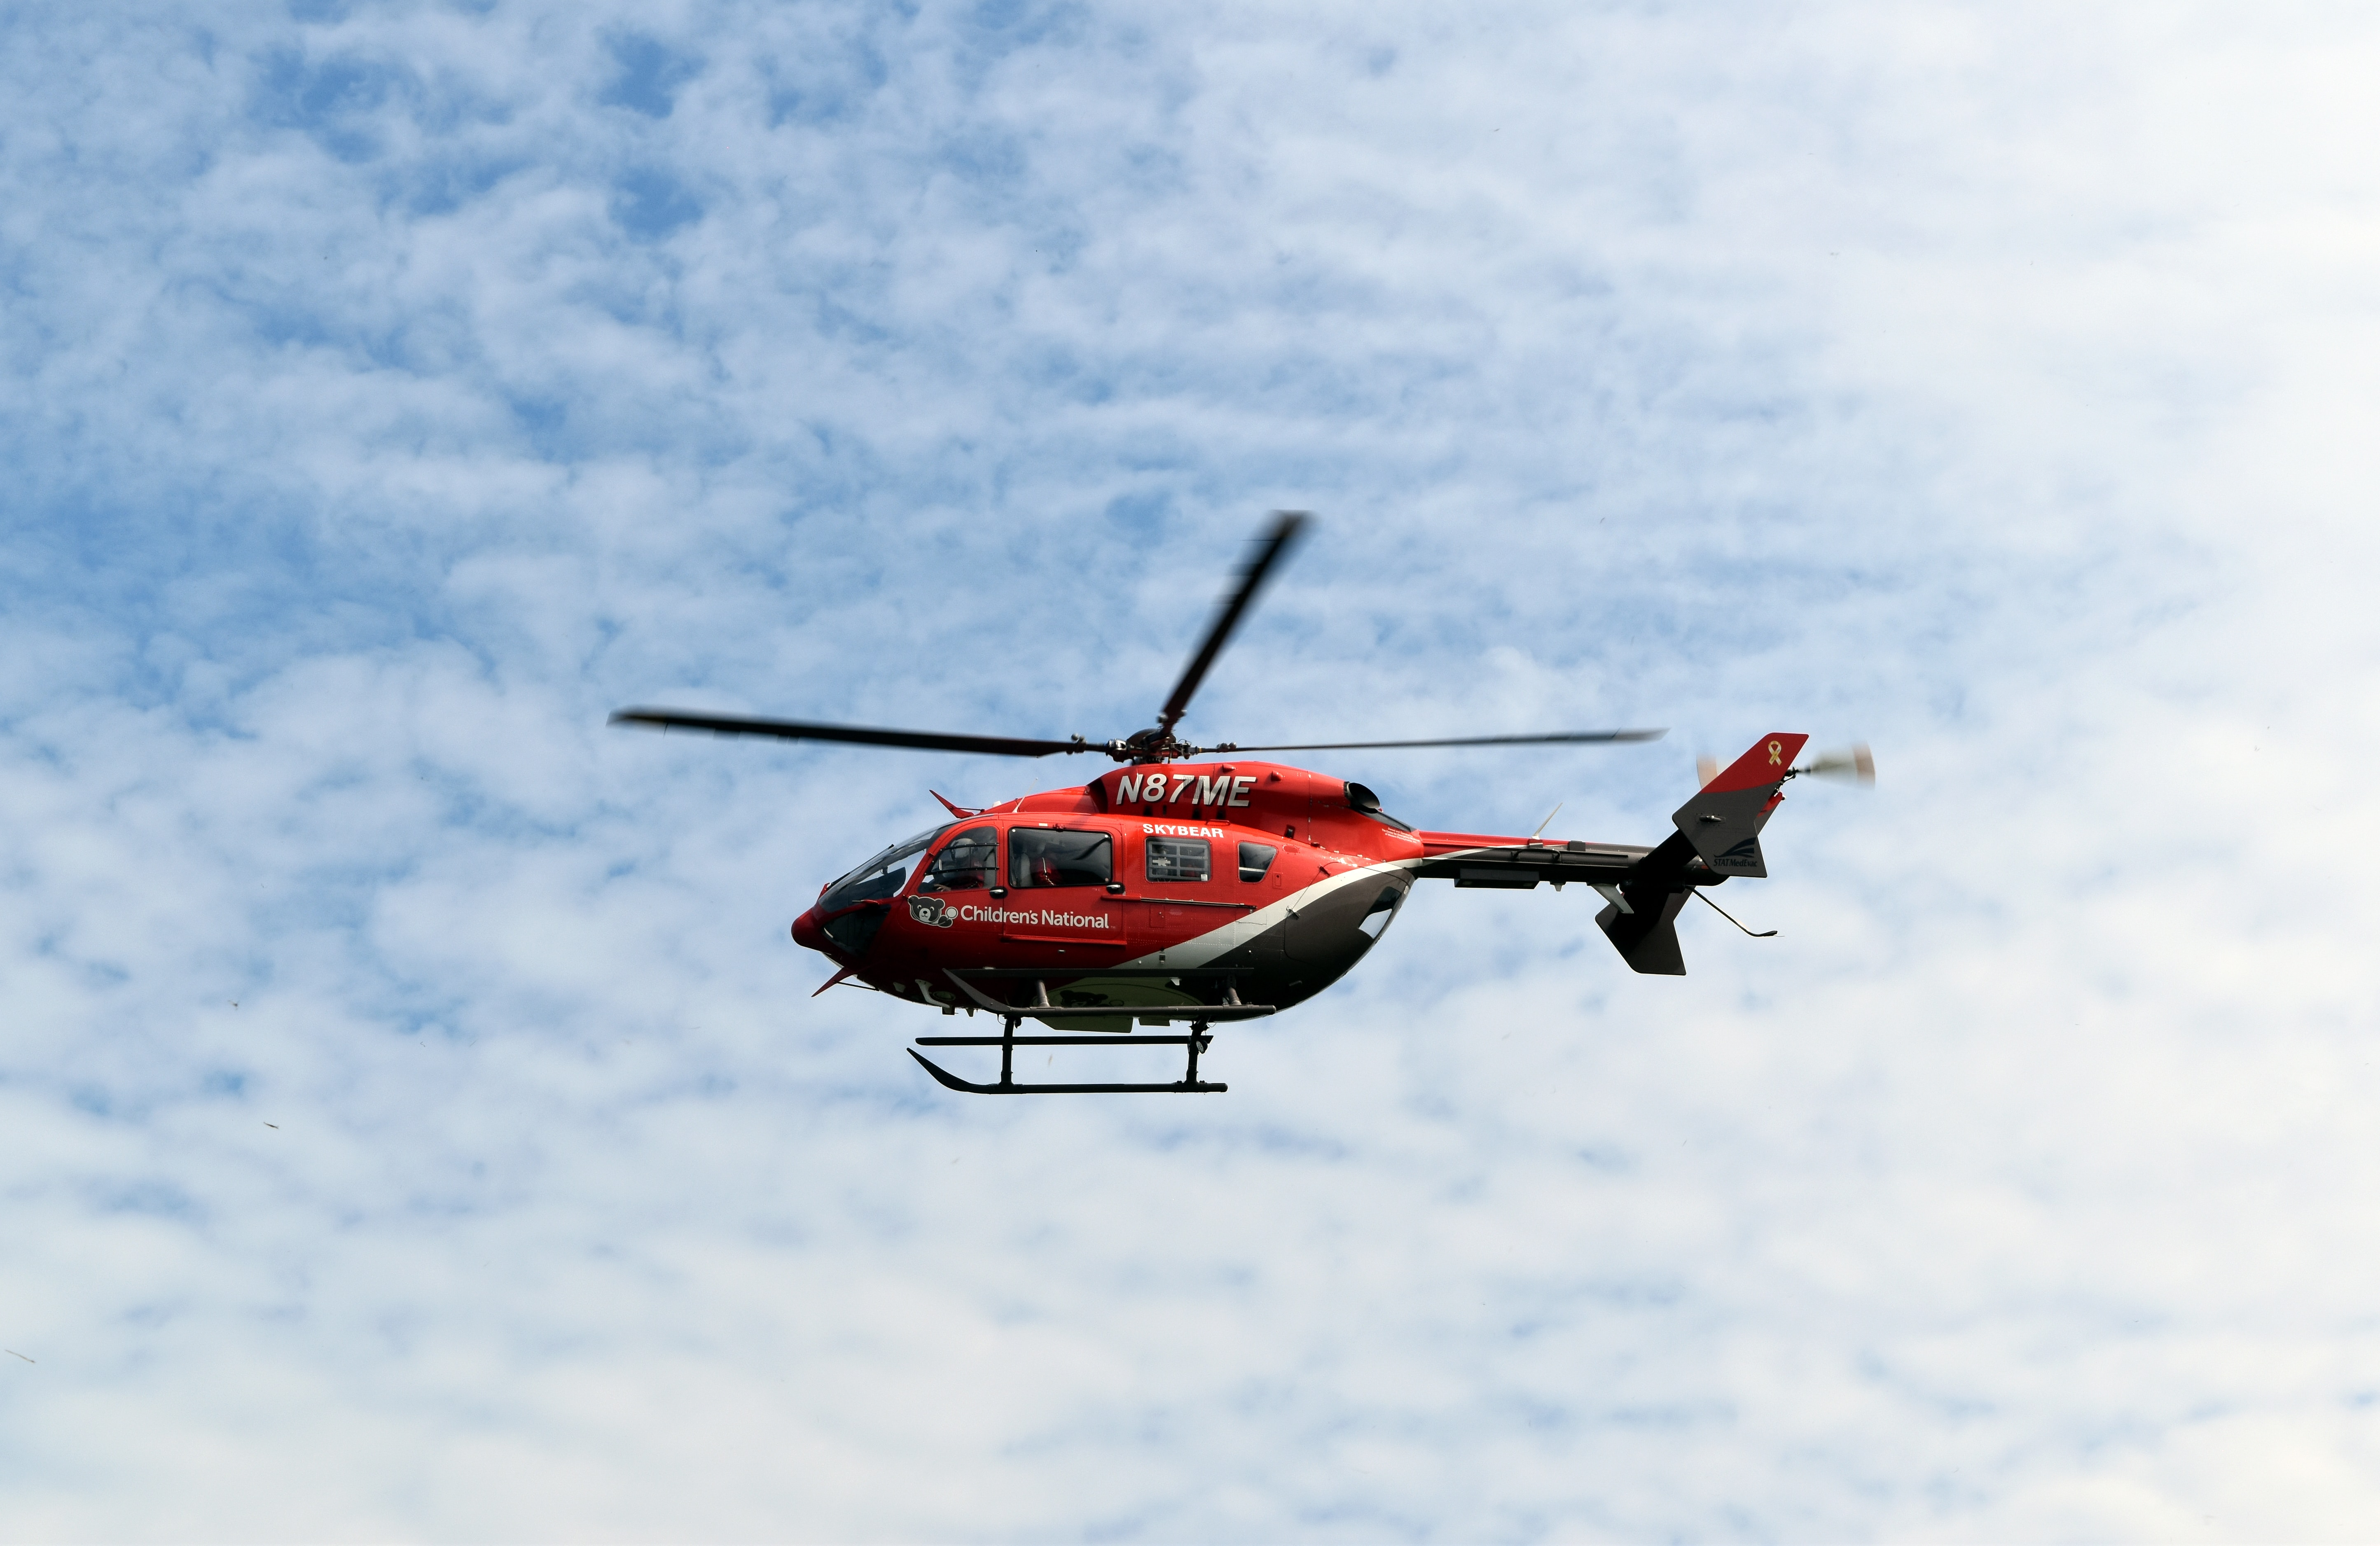helicopter: (579, 453, 1887, 1130)
